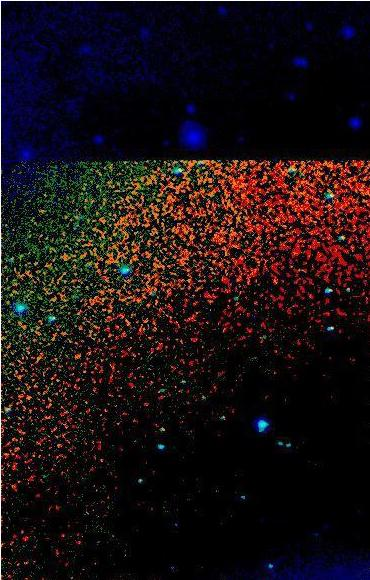star: (261, 265, 291, 295)
